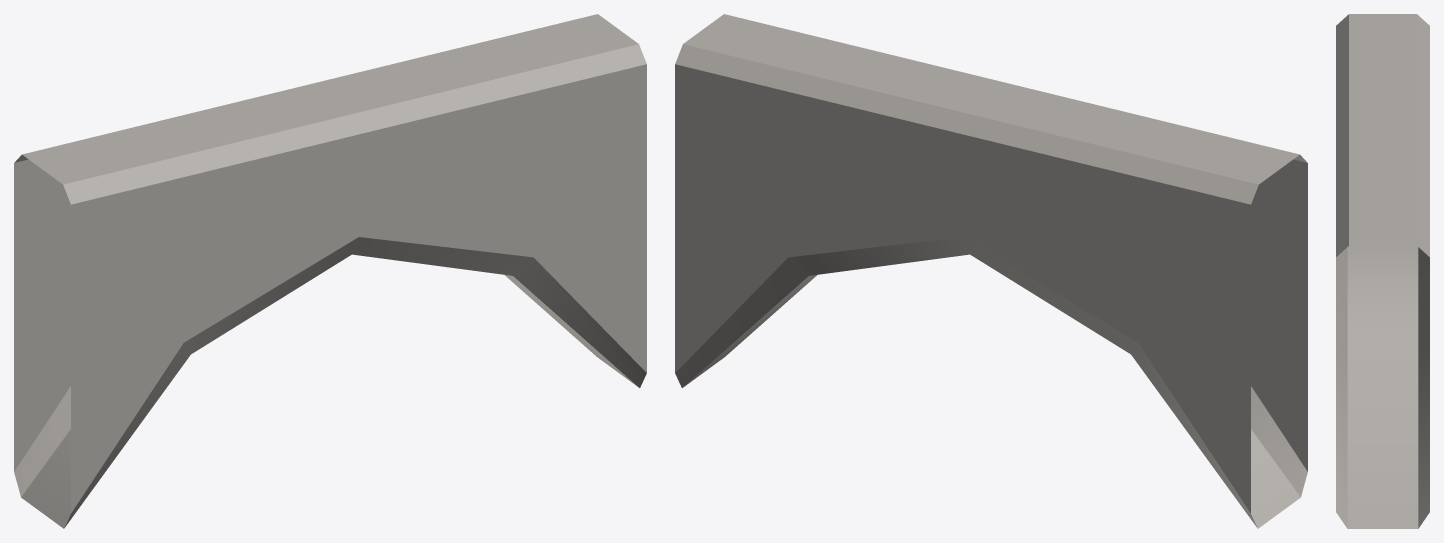
The model's file is Pillar Link 01.FBX.
3 renders of one model, left to right at view 1: azimuth 30°, elevation 25°; view 2: azimuth 150°, elevation 25°; view 3: azimuth 270°, elevation 25°, orthographic. The views are drawn at different scales.
Visible parts, largest first — view 1: Pillar Link 01; view 2: Pillar Link 01; view 3: Pillar Link 01.
Boxes of the visible parts, x1=… form: Pillar Link 01: x1=14, y1=14, x2=646, y2=528; Pillar Link 01: x1=675, y1=14, x2=1307, y2=528; Pillar Link 01: x1=1336, y1=14, x2=1429, y2=528.
Bounding box in the file's own units: 351 × 200 × 60.1.
Materials: 1 (1 with a texture image).
